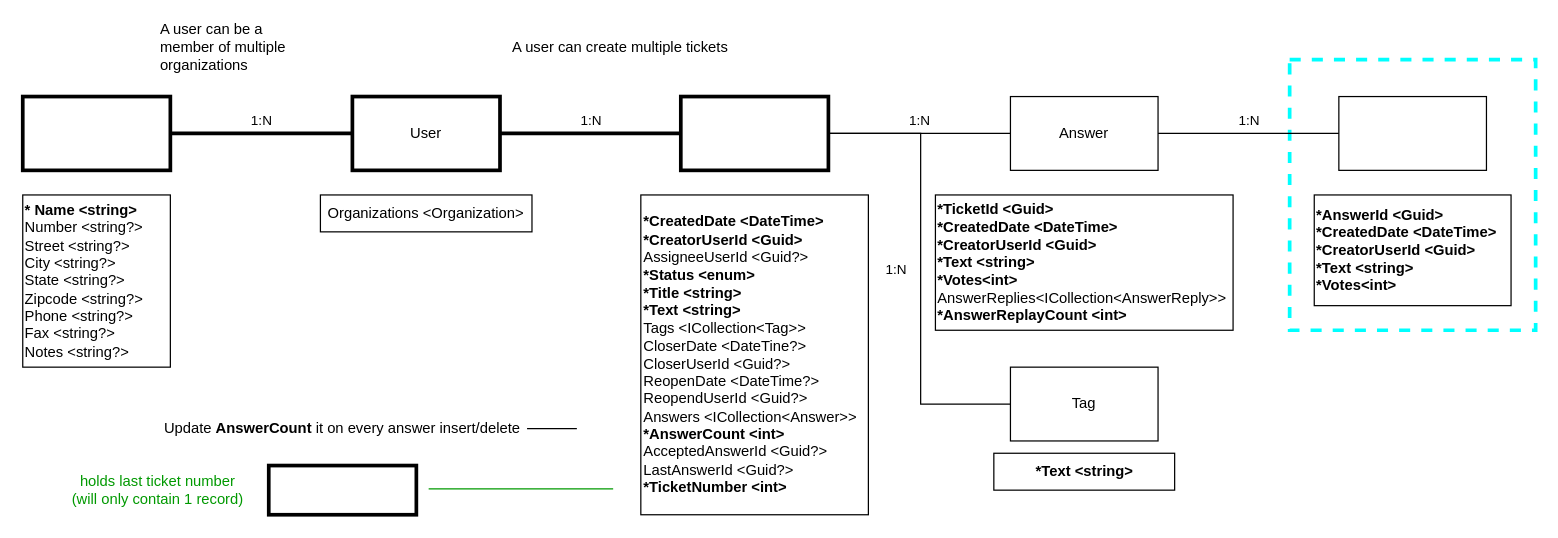
Image size: 1558x538. Some labels were removed from this diagram. Here are the shapes that lost their labels. From the top down, the box of each, then its label:
(20, 94, 172, 172): Organization
(678, 94, 830, 172): Ticket
(1338, 95, 1486, 170): AnswerReply
(1287, 57, 1537, 331): Optional
(266, 463, 418, 516): LastTicketNumber
